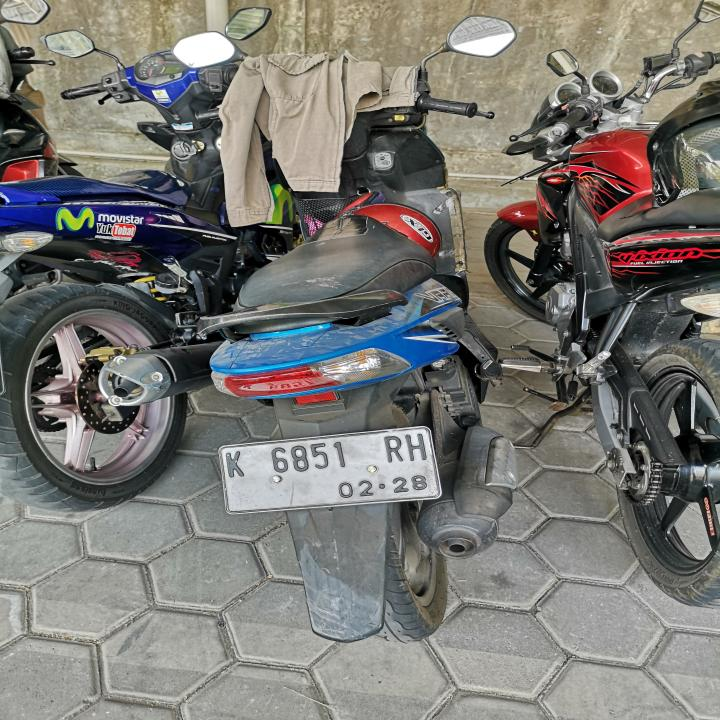plate: (217, 424, 442, 512)
